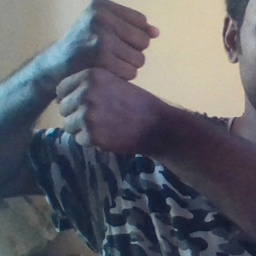G: (53, 1, 162, 151)
